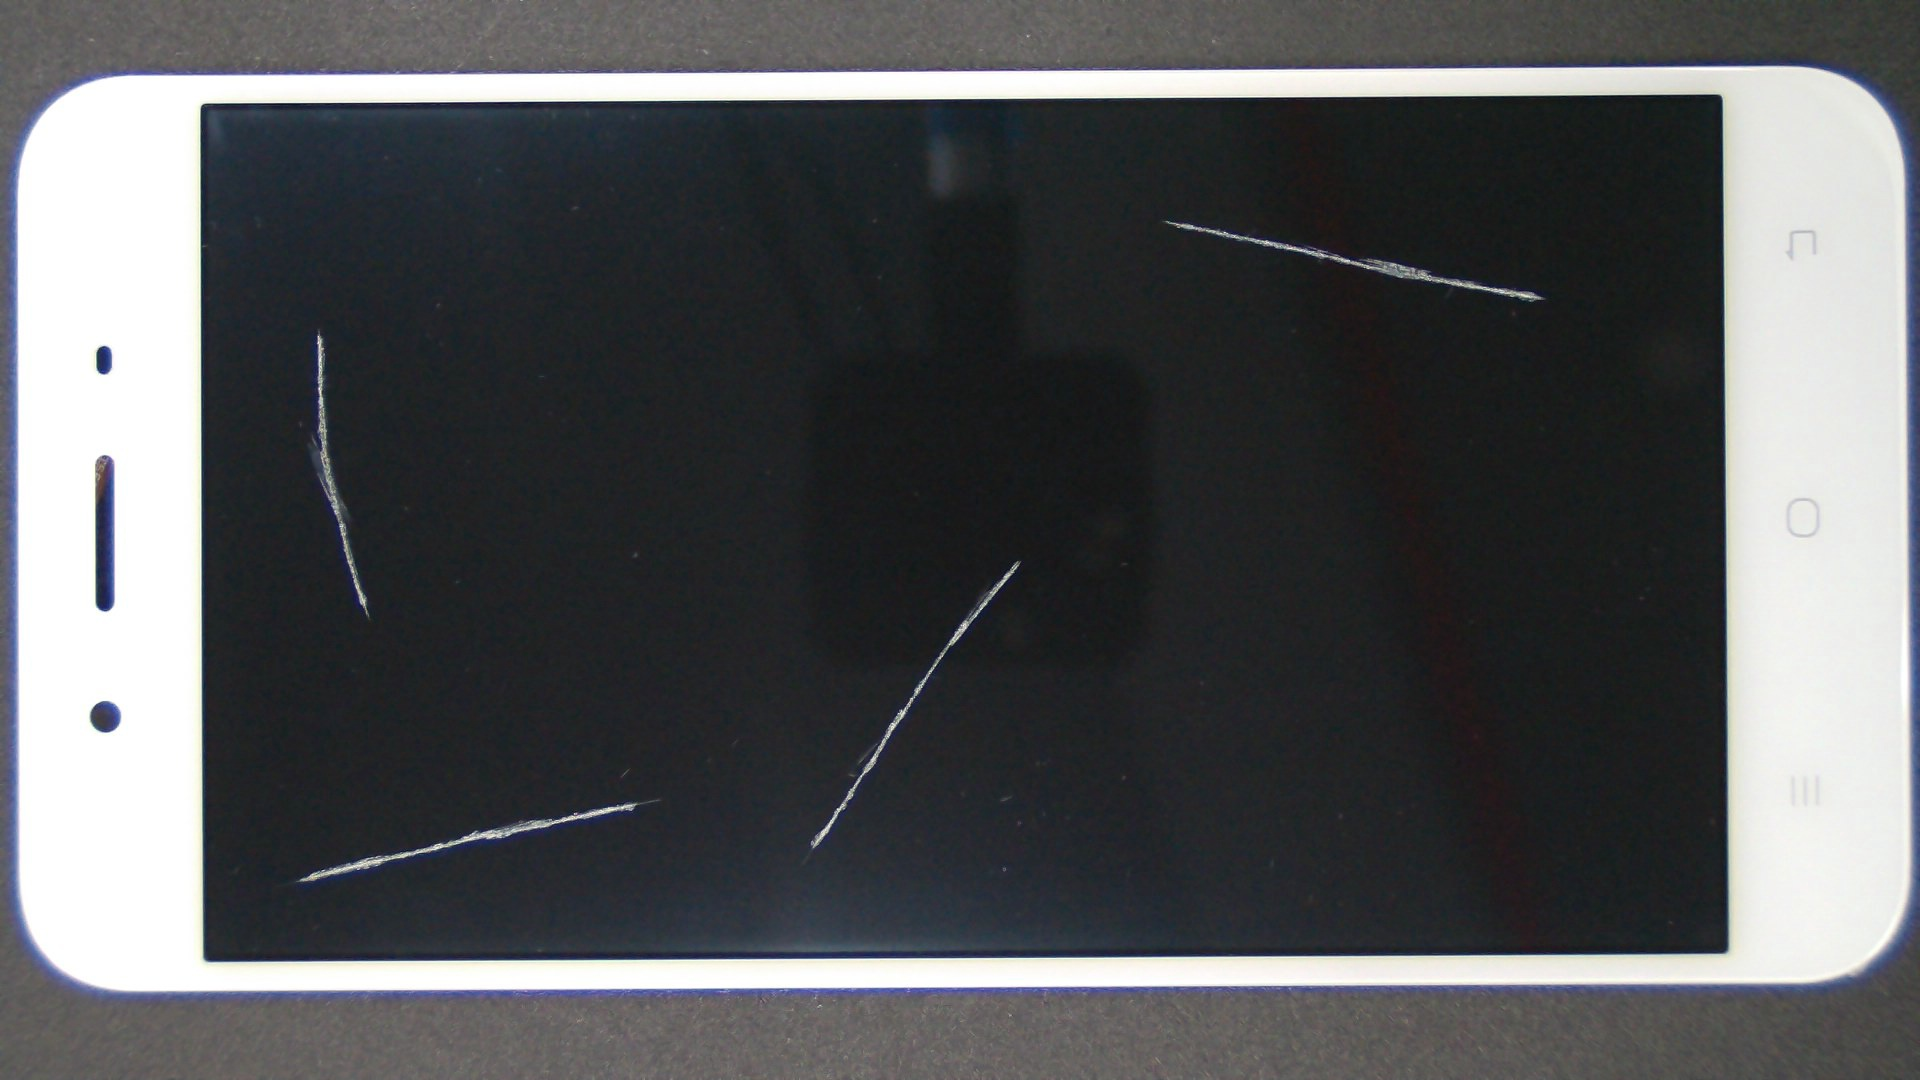oil: (510, 280, 1530, 839), (328, 398, 985, 1080), (579, 109, 1742, 331), (158, 162, 476, 496)
